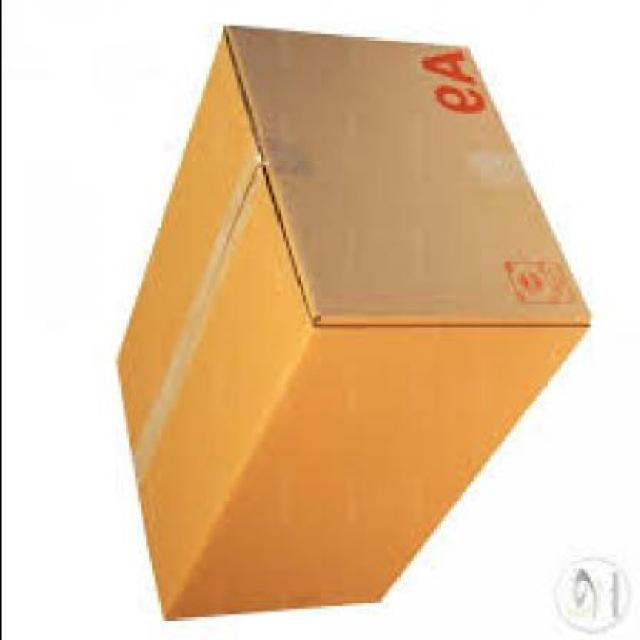CARDBOARD: (114, 23, 586, 617)
